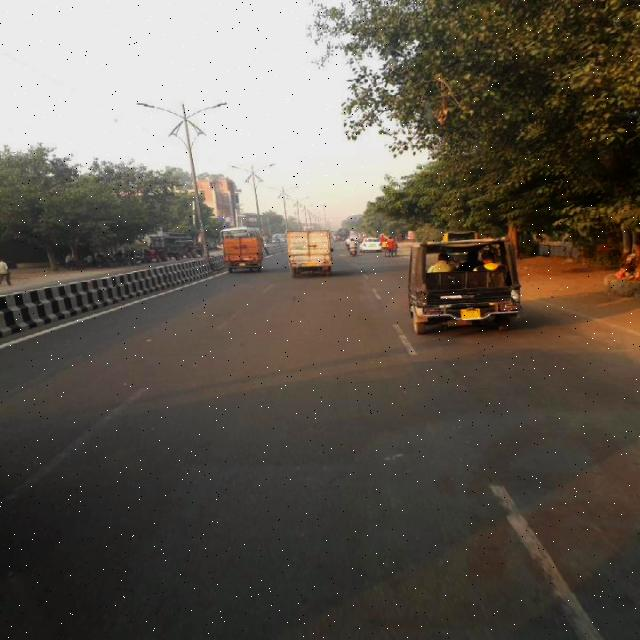D44: (11, 368, 162, 498)
